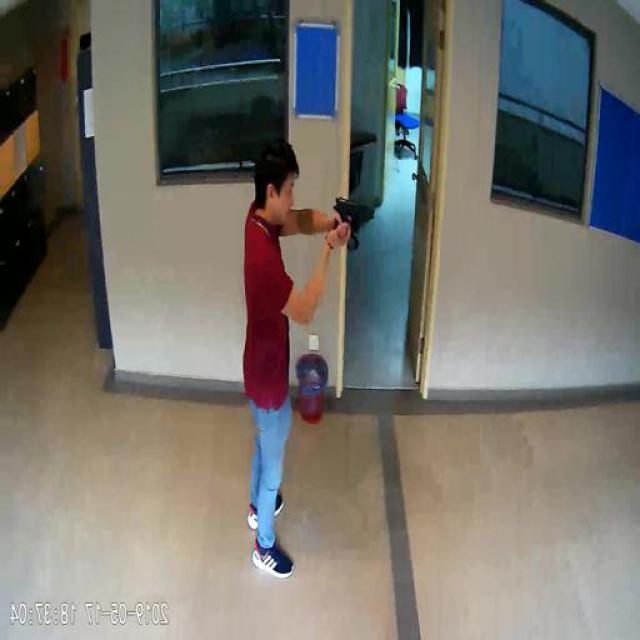Gun: (336, 194, 376, 240)
